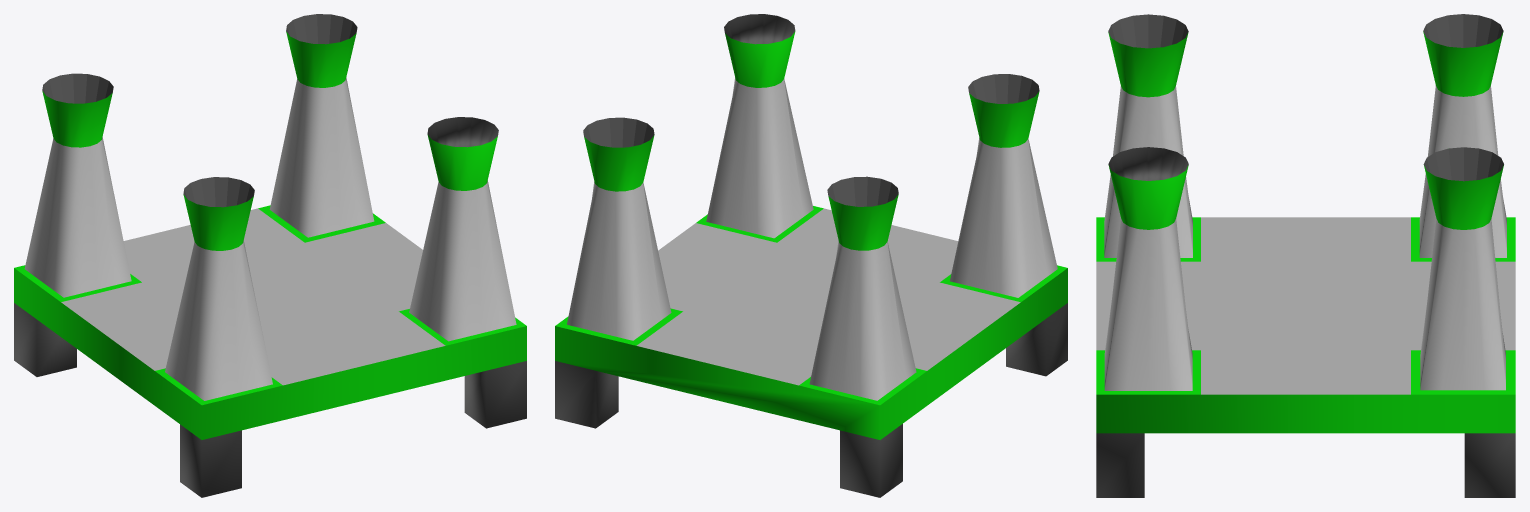
The model's file is WarBaseGreen.fbx.
3 views of the same model, side by side, from view 1: azimuth 30°, elevation 25°; view 2: azimuth 150°, elevation 25°; view 3: azimuth 270°, elevation 25° (orthographic). The views are drawn at different scales.
Parts seen in each view (by area): view 1: pCylinder5; view 2: pCylinder5; view 3: pCylinder5.
Part boxes in pixels (x1=…): pCylinder5: x1=14, y1=14, x2=526, y2=497; pCylinder5: x1=555, y1=14, x2=1067, y2=497; pCylinder5: x1=1096, y1=14, x2=1515, y2=497.
Size of the model in its own units: 3.67 by 3.01 by 3.67.
